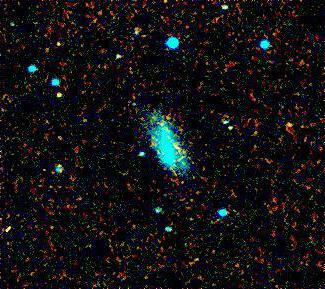star: (273, 111, 303, 141)
